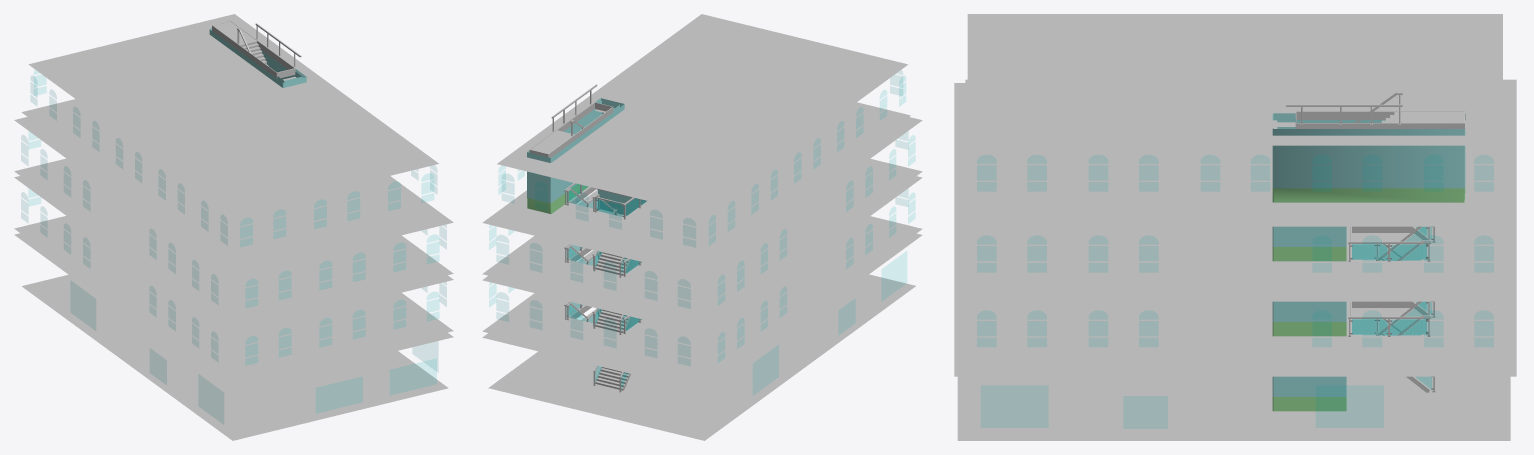
The model's file is SM_Building16_V1_Interior.fbx.
3 renders of one model, left to right at view 1: azimuth 30°, elevation 25°; view 2: azimuth 150°, elevation 25°; view 3: azimuth 270°, elevation 25°, orthographic. The views are drawn at different scales.
Parts seen in each view (by area): view 1: SM_Building16_V1_Interior; view 2: SM_Building16_V1_Interior; view 3: SM_Building16_V1_Interior.
Boxes of the visible parts, <box> form: SM_Building16_V1_Interior: <box>14,14,453,440</box>; SM_Building16_V1_Interior: <box>482,14,922,440</box>; SM_Building16_V1_Interior: <box>954,14,1516,440</box>.
Bounding box in the file's own units: 1689 × 1846 × 2785.
